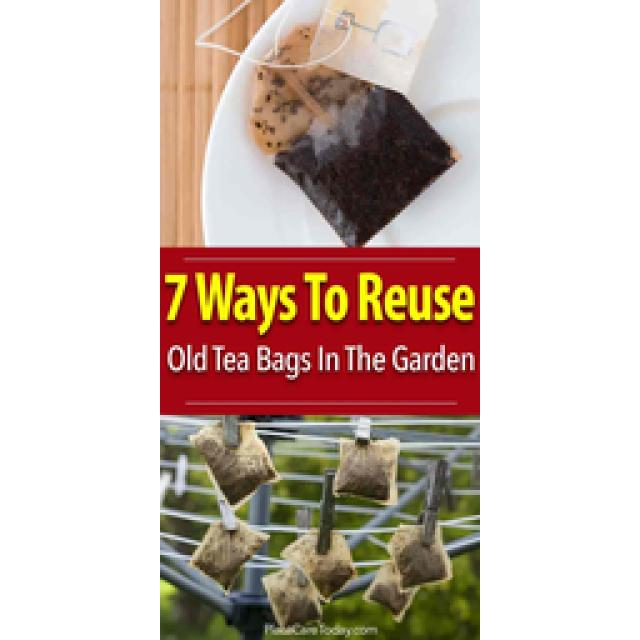tea-bags: (245, 0, 463, 247), (259, 529, 359, 631), (361, 525, 452, 623), (192, 423, 283, 511), (189, 517, 270, 594), (334, 436, 398, 504)
